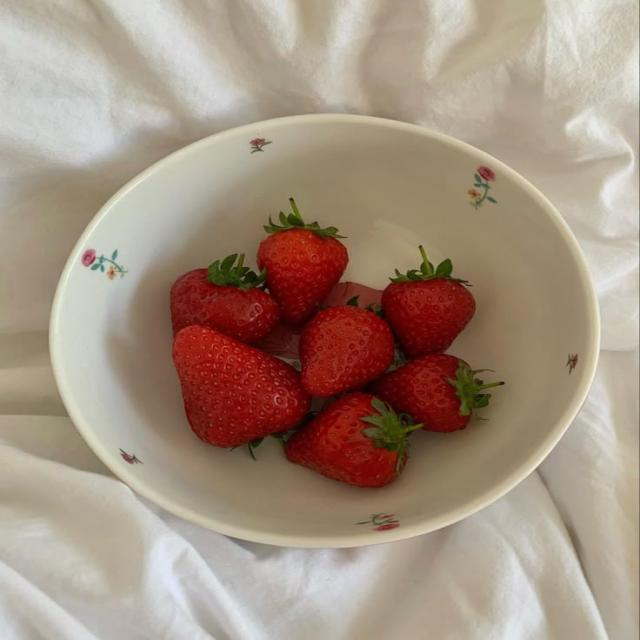strawberry: (173, 327, 309, 447), (286, 393, 421, 487), (258, 199, 348, 323), (381, 246, 475, 358), (372, 354, 504, 431), (170, 254, 279, 343), (300, 300, 394, 397)
